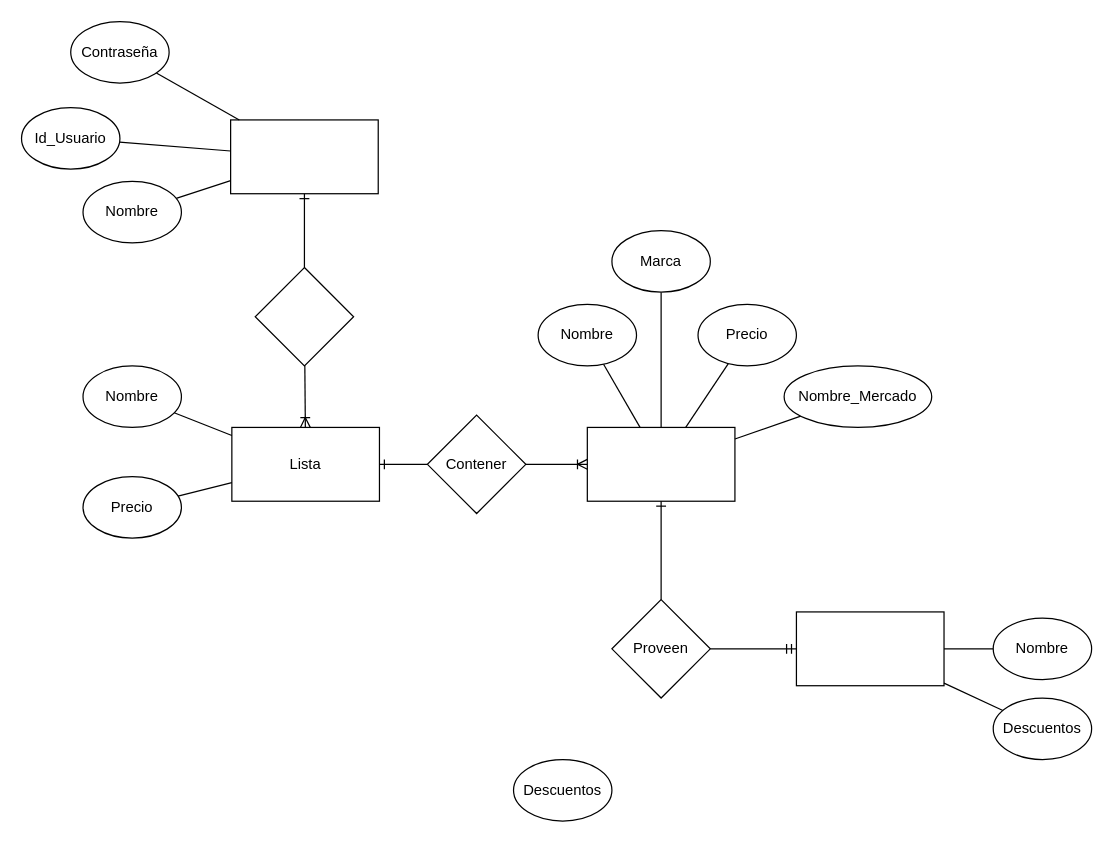
Image size: 1113x843. Some labels were removed from this diagram. Here are the shapes that lost their labels. From the top down, the centre of each, then its label:
the point at 303,156: Usuario
the point at 304,316: Crear
the point at 660,463: Producto
the point at 869,648: Mercado
